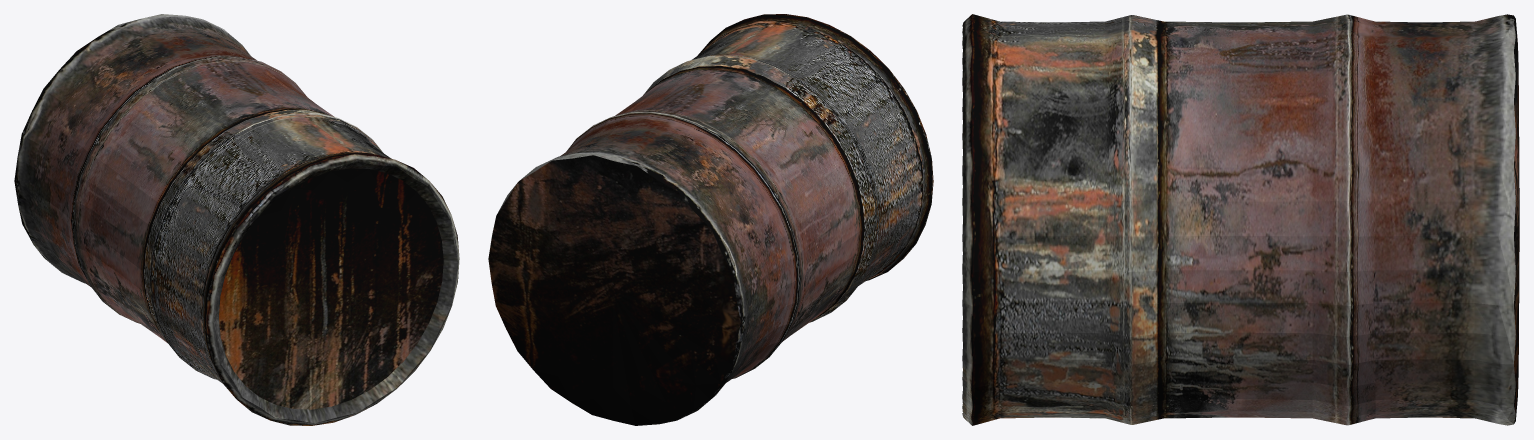
The model's file is barrel_1a.obj.
The picture shows the model from 3 angles, left to right: view 1: azimuth 30°, elevation 25°; view 2: azimuth 150°, elevation 25°; view 3: azimuth 270°, elevation 25°; orthographic projection. The views are drawn at different scales.
Size of the model in its own units: 26.63 by 26.71 by 36.01.
Materials: 1 (1 with a texture image).
